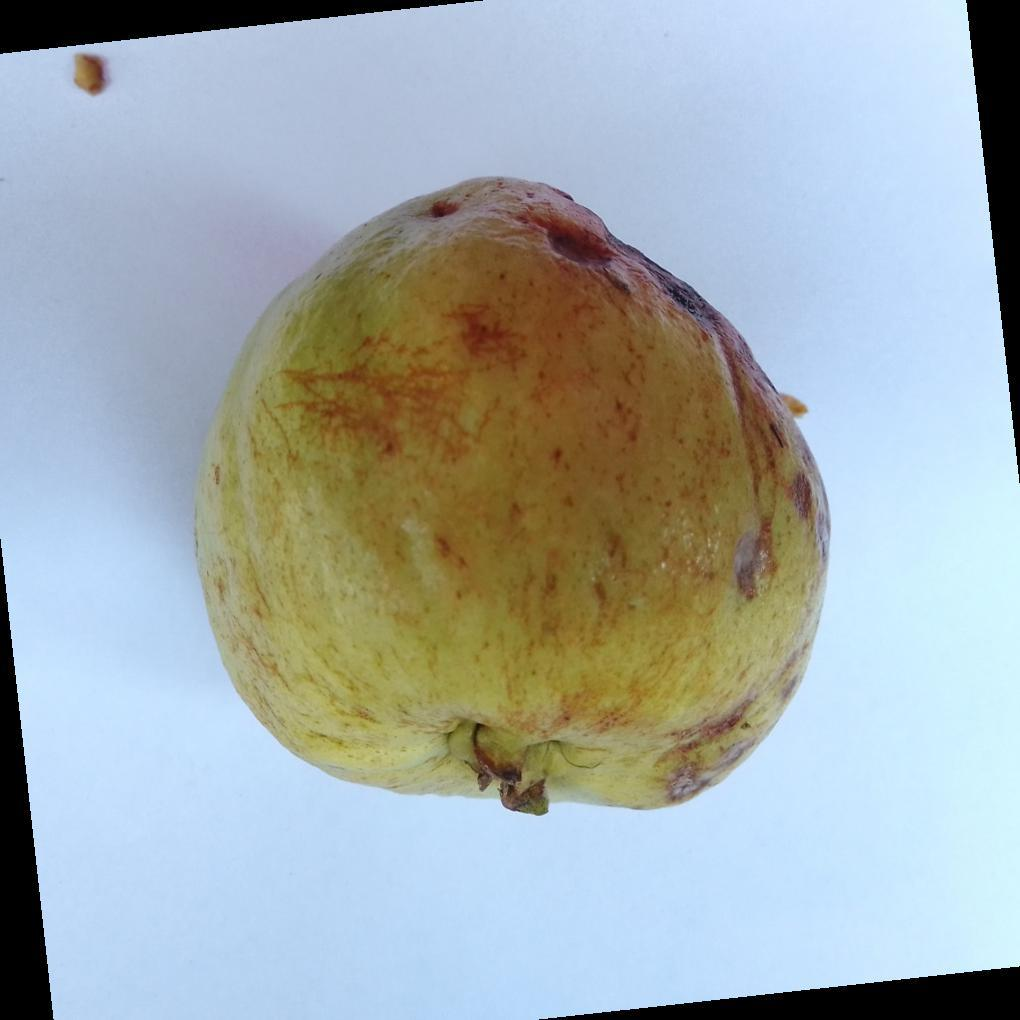FreshOrange: (192, 177, 832, 819)
